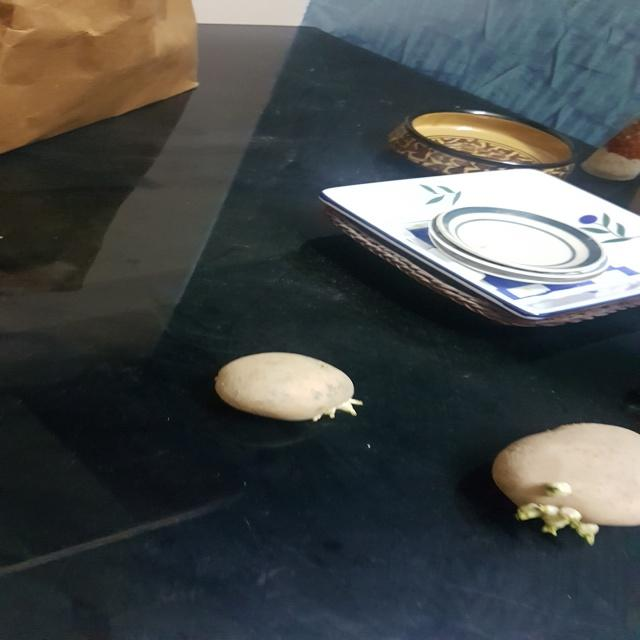potato: (491, 419, 639, 548), (213, 346, 364, 430)
